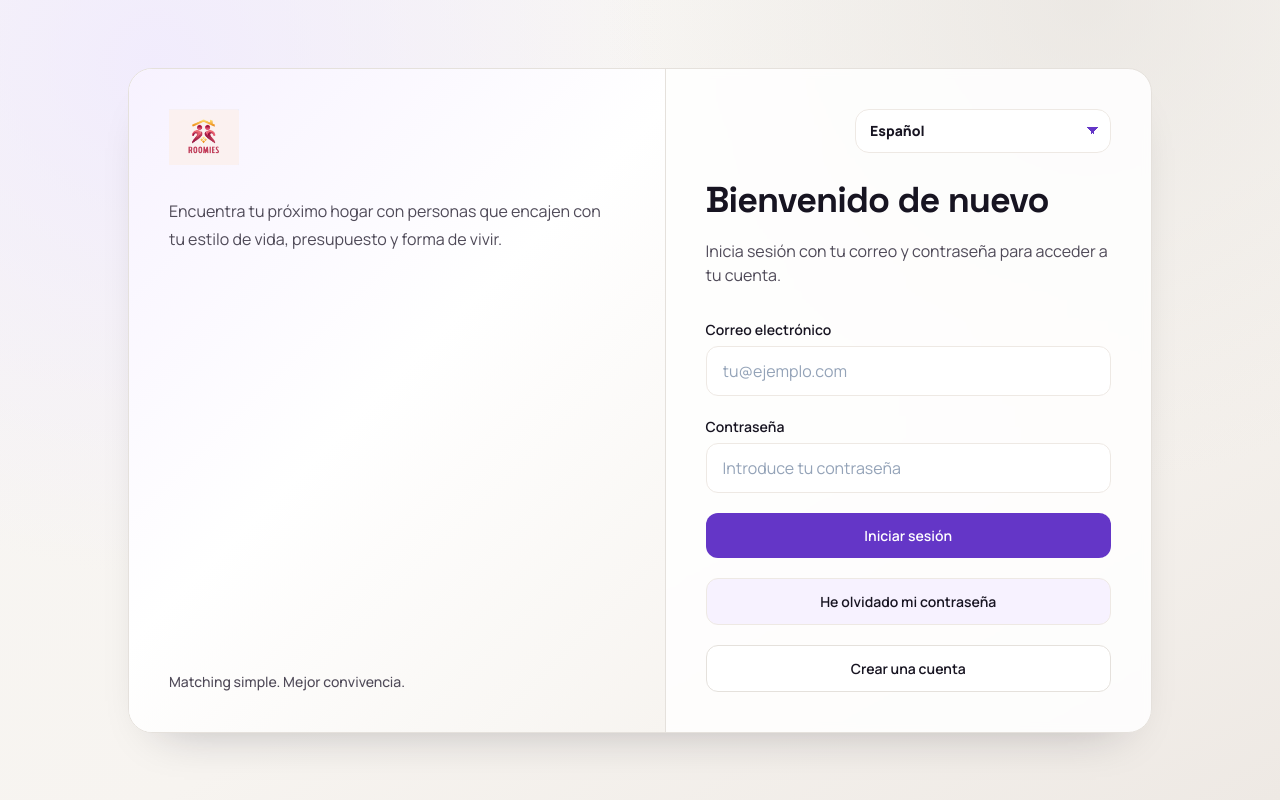
LoginPage › shows error message when login fails
Type "test@test.com" into the field labelled "Correo electrónico" at (908, 370), box [706,346,1111,396]
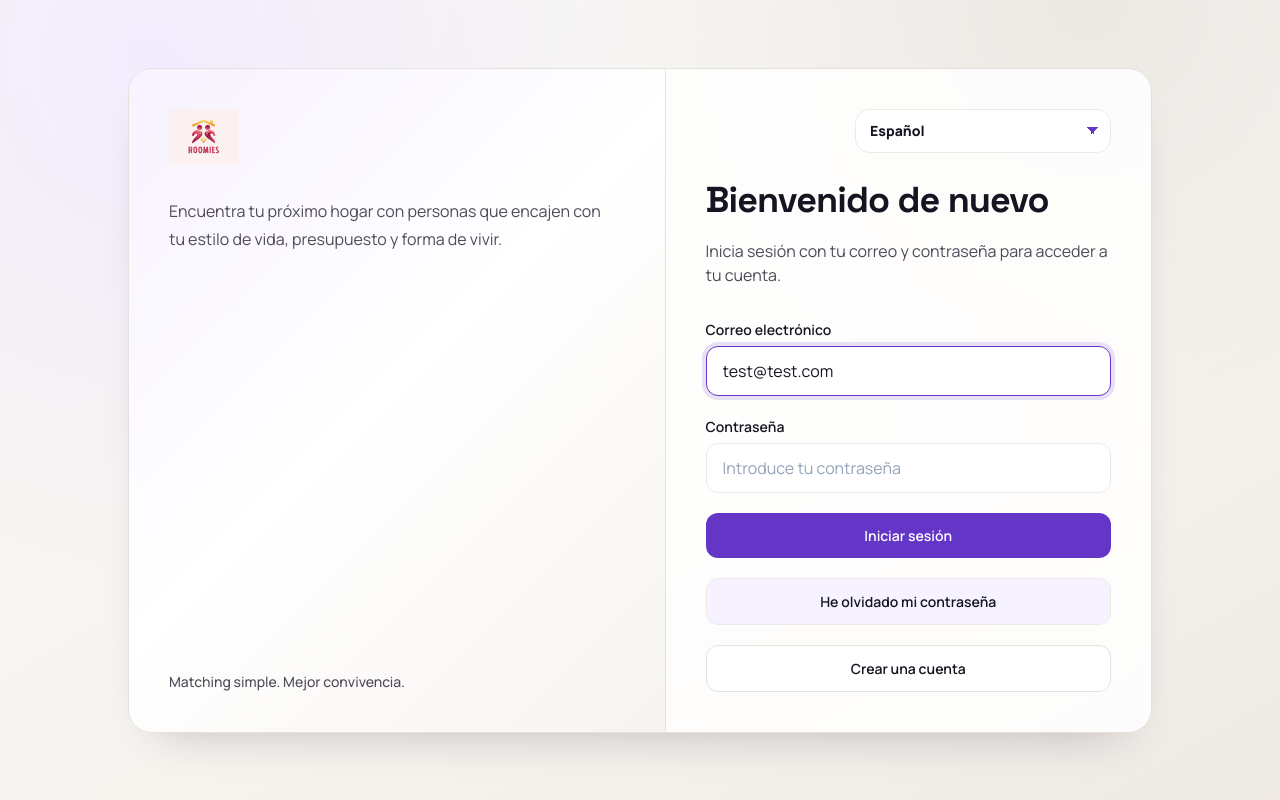
Type "123456" into the password field labelled "Contraseña" at (908, 468), box [706,442,1111,492]
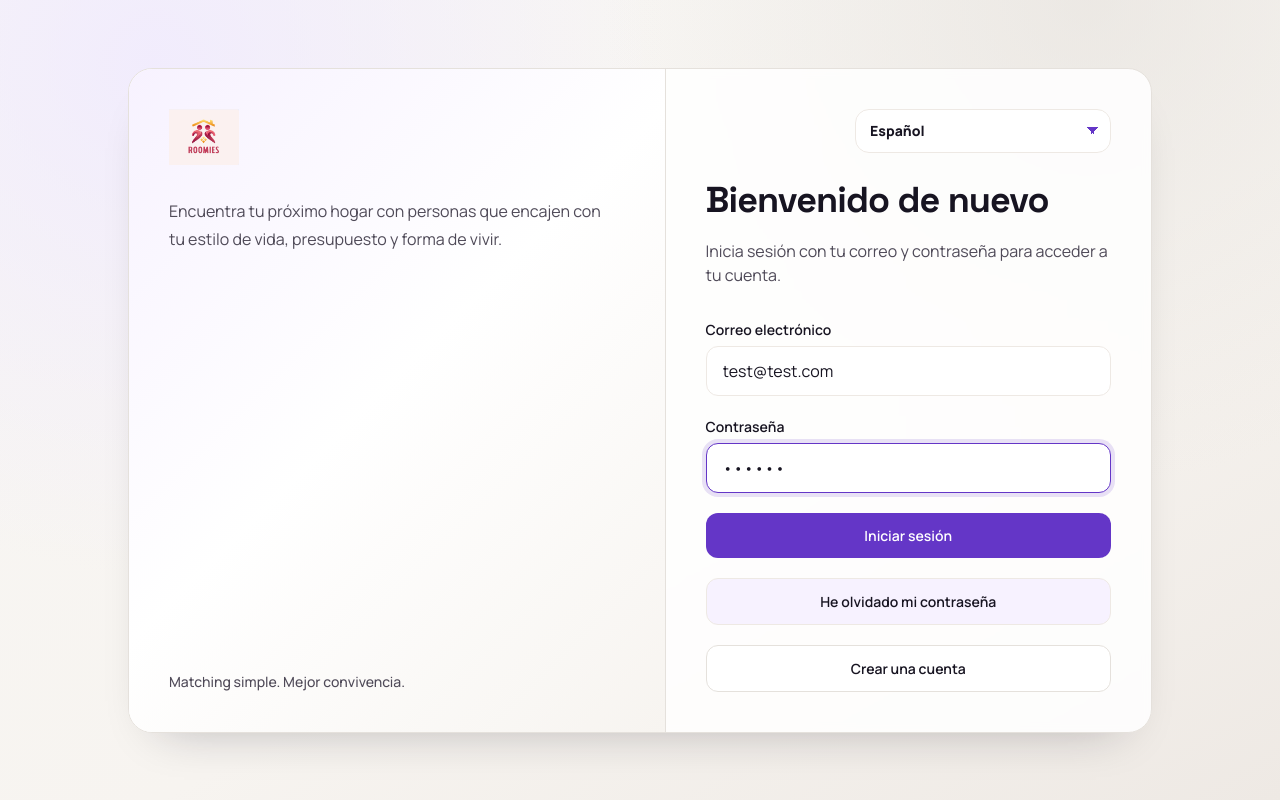
Click the button "Iniciar sesión" at (908, 535), box [706,512,1111,558]
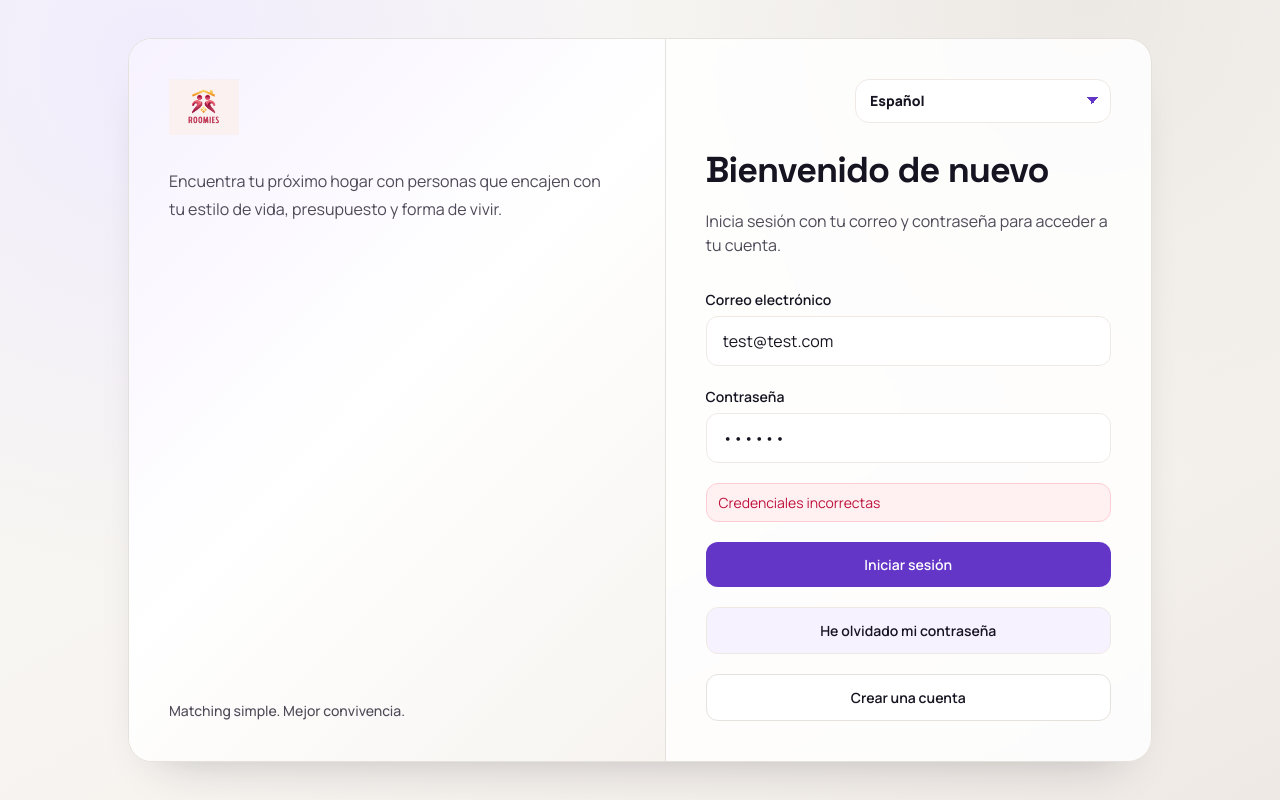
Now the text "Credenciales incorrectas" is shown, box [706,483,1111,522]
